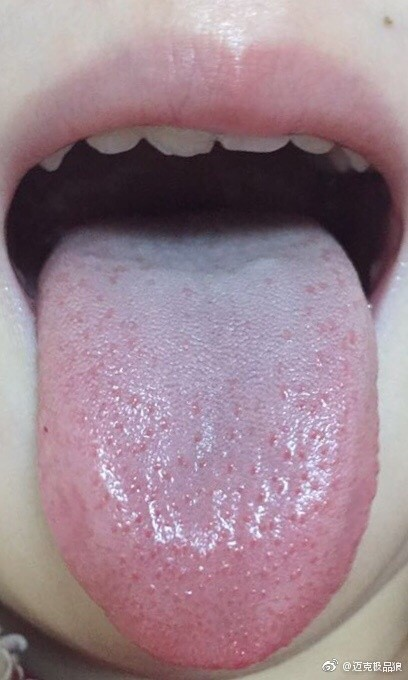baitaishe: (38, 202, 379, 671)
hongdianshe: (295, 467, 311, 482), (266, 432, 279, 450), (196, 455, 211, 470), (132, 510, 143, 524)
